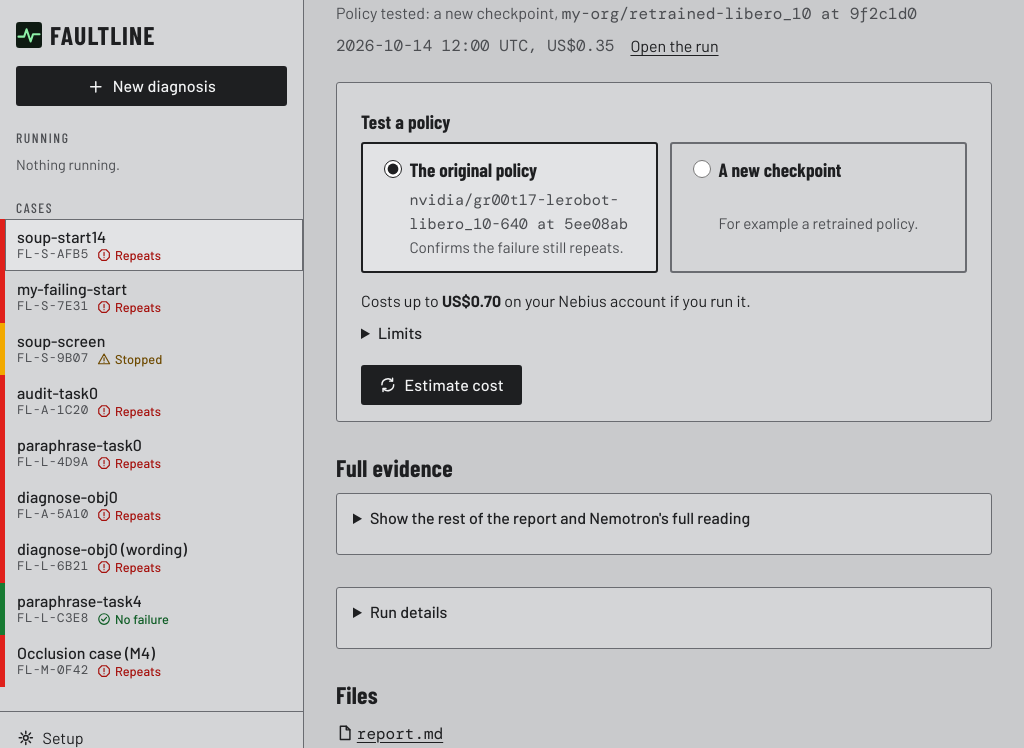
Test: regression test on a case page › estimates the cost for the original policy and starts the test without naming a checkpoint
The width and height of the screenshot is (1024, 748).
(page scrolled)
Click the button "Estimate cost": (441, 385) [361, 365, 522, 405]
(page scrolled)
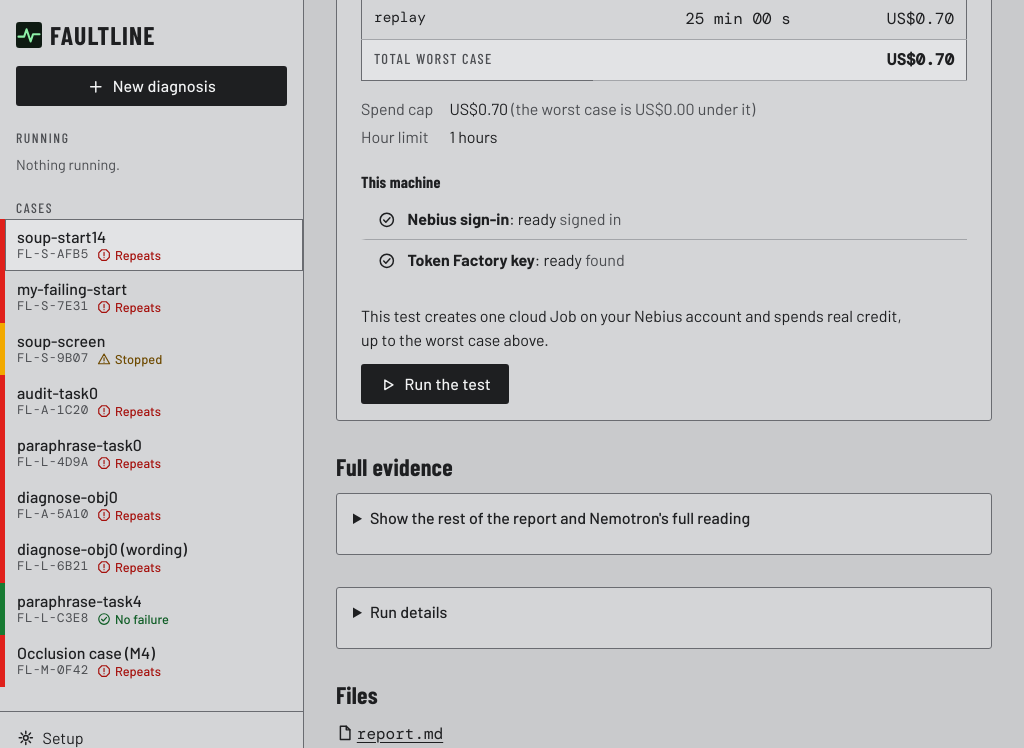
Expected: the column heading "Total worst case" is shown, [362, 40, 593, 81]
Click the button "Run the test": (435, 384) [361, 364, 509, 404]
(page scrolled)
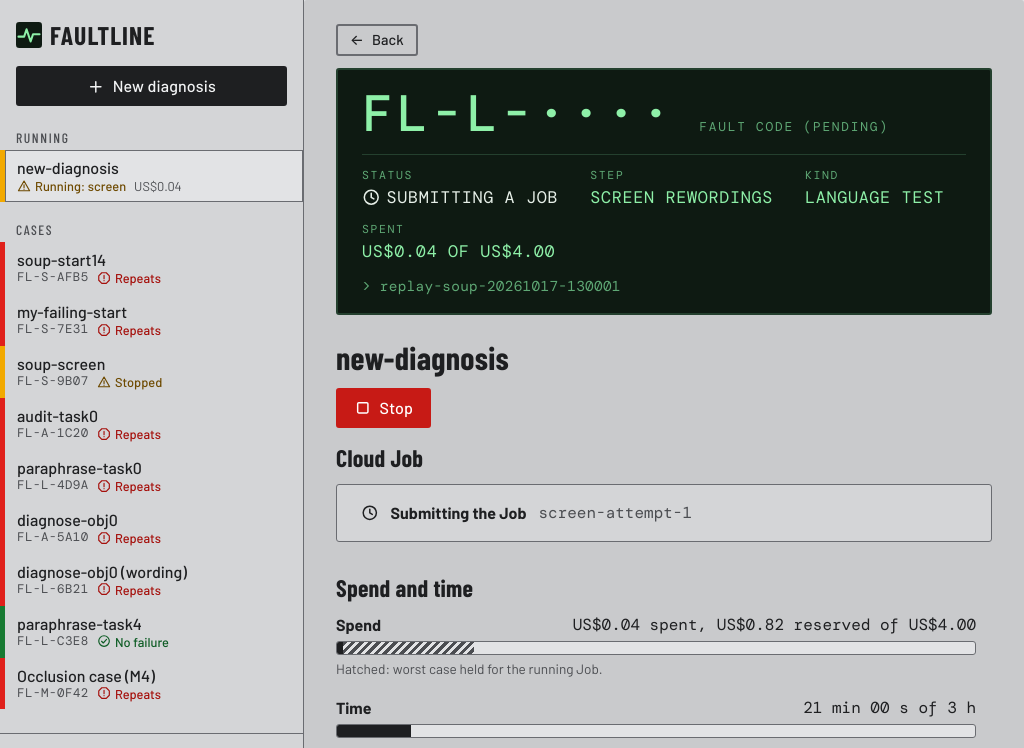
Expected: the heading "new-diagnosis" is shown, [336, 338, 509, 376]
